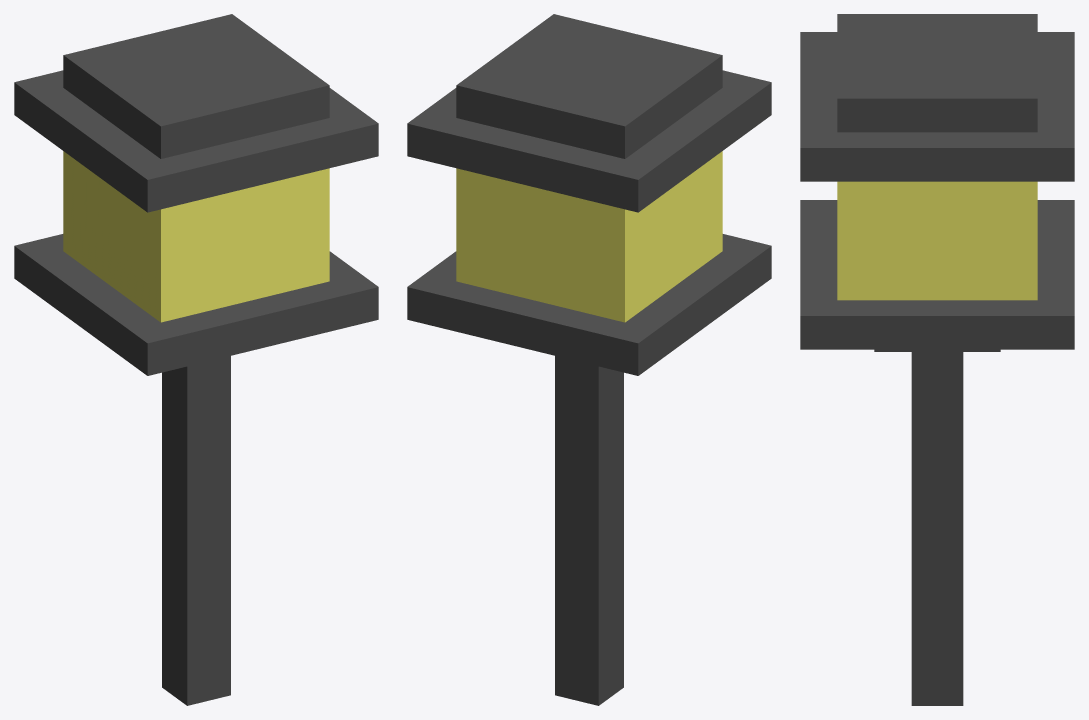
Rendered from smallPost.gltf.
3 renders of one model, left to right at view 1: azimuth 30°, elevation 25°; view 2: azimuth 150°, elevation 25°; view 3: azimuth 270°, elevation 25°, orthographic. The views are drawn at different scales.
Visible parts, largest first — view 1: 587c65e6-ebe7-c678-19a5-aa0e1d98896d, a1606d24-9326-ad17-ff07-e4dd0af6e23f, 088d94b4-bfa8-b13d-3b0f-8d89c7a740f9, 0d2db774-0e00-a23d-6f2c-199df4cc744d, a0c8d789-b07d-1905-6dd7-1ca40553b066; view 2: 587c65e6-ebe7-c678-19a5-aa0e1d98896d, a1606d24-9326-ad17-ff07-e4dd0af6e23f, 088d94b4-bfa8-b13d-3b0f-8d89c7a740f9, 0d2db774-0e00-a23d-6f2c-199df4cc744d, a0c8d789-b07d-1905-6dd7-1ca40553b066; view 3: 587c65e6-ebe7-c678-19a5-aa0e1d98896d, a1606d24-9326-ad17-ff07-e4dd0af6e23f, a0c8d789-b07d-1905-6dd7-1ca40553b066, 0d2db774-0e00-a23d-6f2c-199df4cc744d, 088d94b4-bfa8-b13d-3b0f-8d89c7a740f9.
Boxes of the visible parts, x1,y1,x2,y2 form: 587c65e6-ebe7-c678-19a5-aa0e1d98896d: [63, 151, 329, 322]; a1606d24-9326-ad17-ff07-e4dd0af6e23f: [63, 14, 329, 158]; 088d94b4-bfa8-b13d-3b0f-8d89c7a740f9: [162, 356, 230, 705]; 0d2db774-0e00-a23d-6f2c-199df4cc744d: [14, 234, 378, 375]; a0c8d789-b07d-1905-6dd7-1ca40553b066: [14, 70, 378, 212]; 587c65e6-ebe7-c678-19a5-aa0e1d98896d: [456, 151, 722, 322]; a1606d24-9326-ad17-ff07-e4dd0af6e23f: [456, 14, 722, 158]; 088d94b4-bfa8-b13d-3b0f-8d89c7a740f9: [555, 356, 623, 705]; 0d2db774-0e00-a23d-6f2c-199df4cc744d: [407, 234, 771, 375]; a0c8d789-b07d-1905-6dd7-1ca40553b066: [407, 70, 771, 212]; 587c65e6-ebe7-c678-19a5-aa0e1d98896d: [837, 181, 1037, 300]; a1606d24-9326-ad17-ff07-e4dd0af6e23f: [837, 14, 1037, 132]; a0c8d789-b07d-1905-6dd7-1ca40553b066: [800, 32, 1074, 181]; 0d2db774-0e00-a23d-6f2c-199df4cc744d: [800, 200, 1074, 349]; 088d94b4-bfa8-b13d-3b0f-8d89c7a740f9: [911, 352, 963, 705].
Bounding box in the file's own units: 0.4625 × 1.19 × 0.4625.
Materials: 2 (2 with a texture image).
